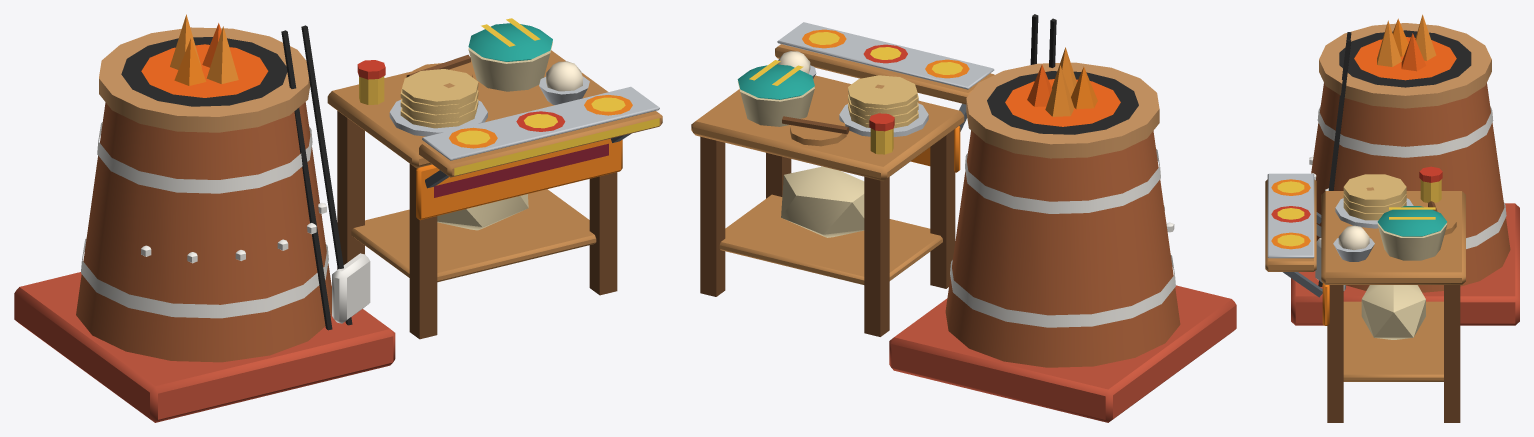
Rendered from tandoor_station.glb.
The picture shows the model from 3 angles, left to right: view 1: azimuth 30°, elevation 25°; view 2: azimuth 150°, elevation 25°; view 3: azimuth 270°, elevation 25°; orthographic projection. The views are drawn at different scales.
Parts seen in each view (by area): view 1: tandoor_station; view 2: tandoor_station; view 3: tandoor_station.
Boxes of the visible parts, box(x1,y1,x2,y2) form: tandoor_station: box(14, 14, 662, 422); tandoor_station: box(691, 14, 1236, 422); tandoor_station: box(1265, 14, 1519, 422).
Size of the model in its own units: 1.98 by 1.25 by 1.09.
Materials: 1 (1 with a texture image).
